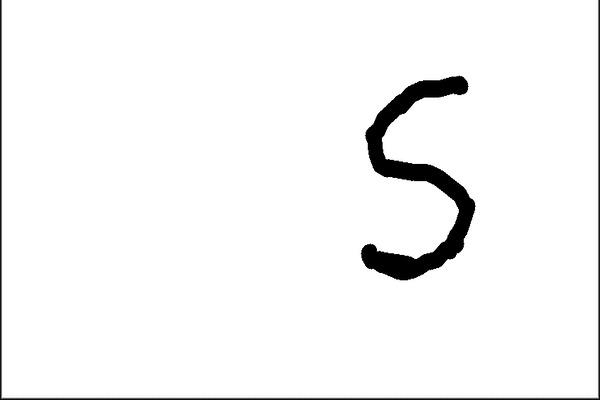S: (353, 72, 482, 284)
